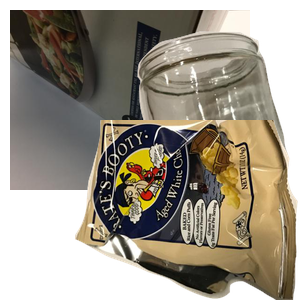cardboard: (10, 10, 250, 190)
glass: (135, 29, 300, 209)
plastic: (100, 152, 293, 300)
trash: (75, 120, 300, 300)
